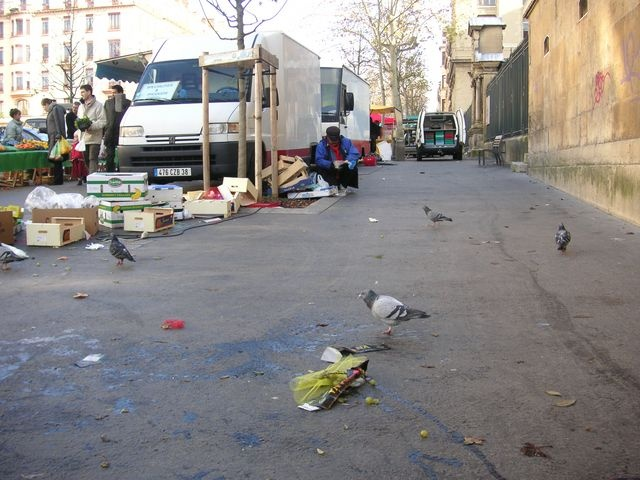Pigeon: (356, 288, 435, 337), (108, 233, 140, 271), (420, 202, 457, 226), (553, 222, 574, 252)
